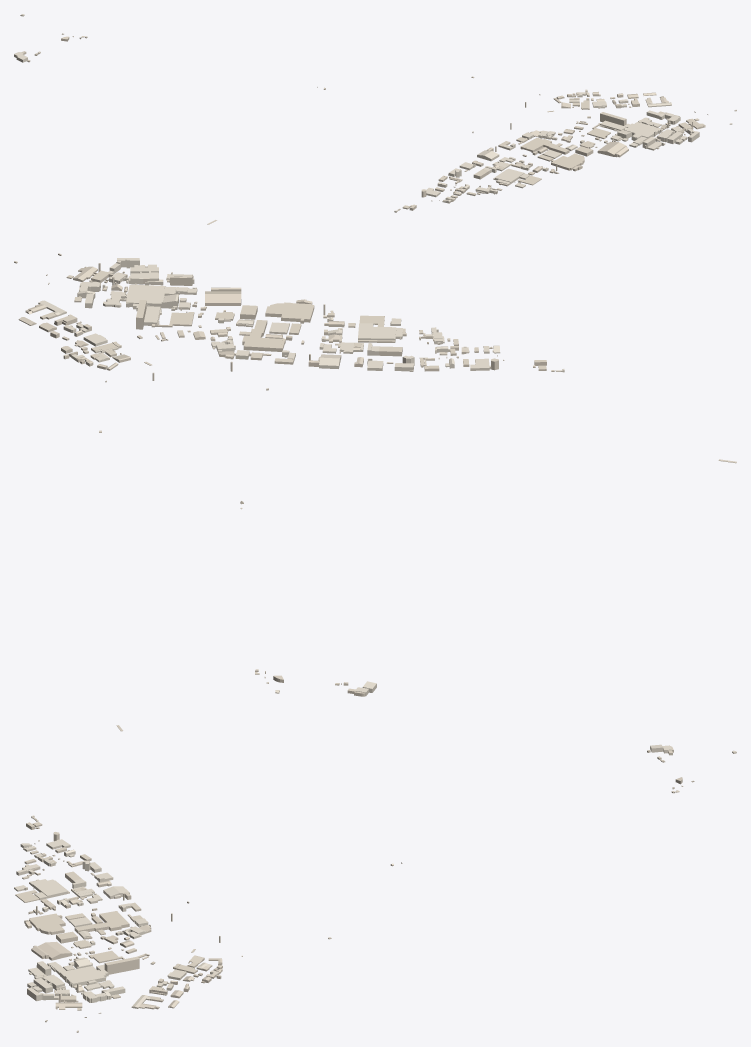
3 views of the same model, one above another, from view 1: azimuth 30°, elevation 25°; view 2: azimuth 150°, elevation 25°; view 3: azimuth 270°, elevation 25° (orthographic). The views are drawn at different scales.
Size of the model in its own units: 2305 by 63.45 by 2284.
